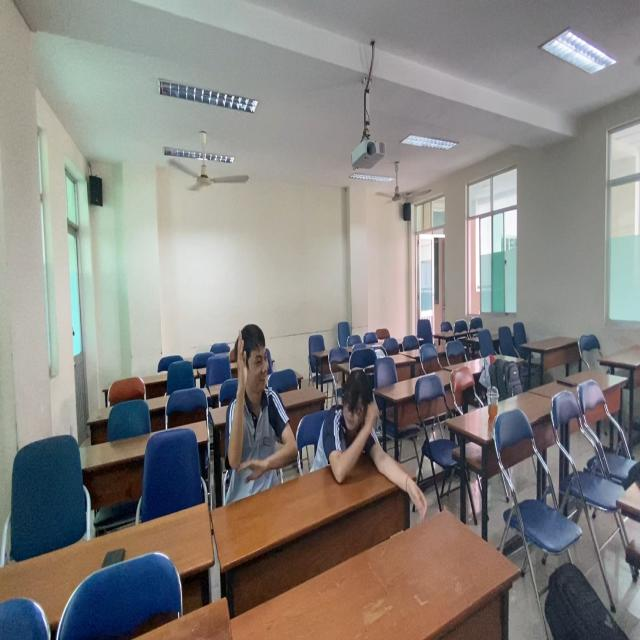raise_hand: (225, 322, 304, 505)
